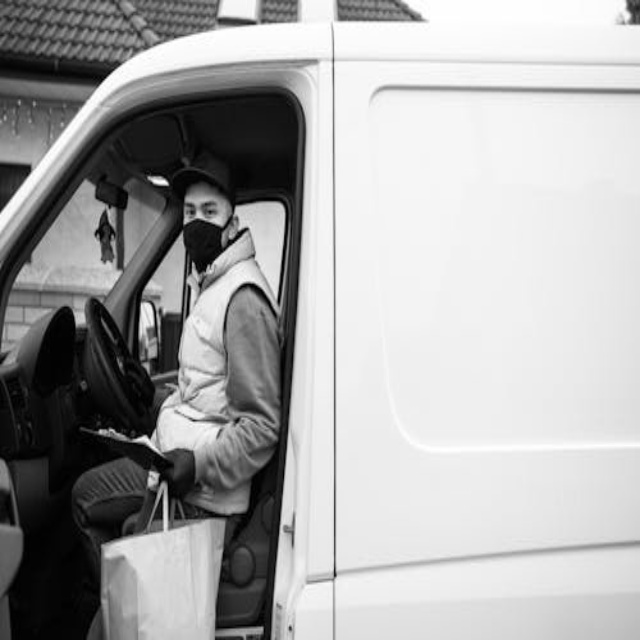Guantes: (158, 448, 196, 498)
Mascara: (183, 218, 229, 272)
Sin_gafas: (185, 207, 195, 221), (205, 207, 216, 216)
